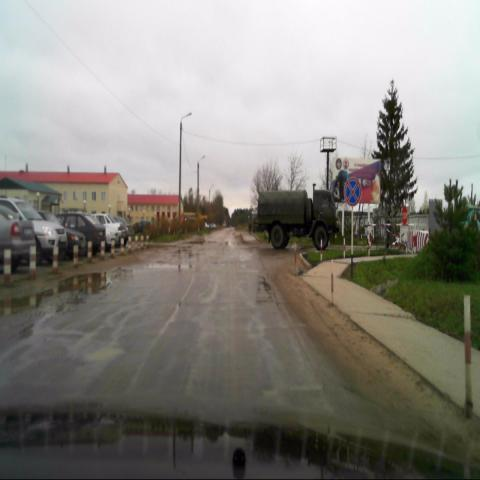2_5: (401, 206, 408, 226)
3_27: (344, 178, 361, 207)
